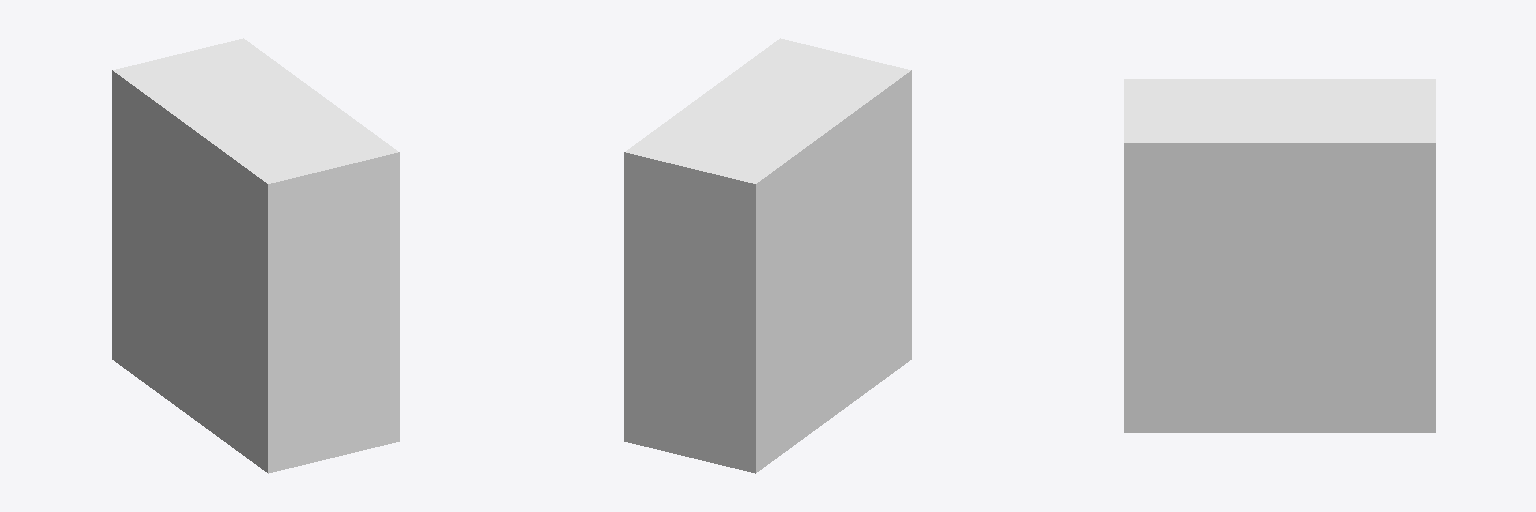
File: slicecube.obj
3 views of the same model, side by side, from view 1: azimuth 30°, elevation 25°; view 2: azimuth 150°, elevation 25°; view 3: azimuth 270°, elevation 25° (orthographic).
Parts seen in each view (by area): view 1: object 1; view 2: object 1; view 3: object 1.
Boxes of the visible parts, <box> form: object 1: <box>112,38,399,473</box>; object 1: <box>624,38,911,473</box>; object 1: <box>1124,79,1435,432</box>.
Bounding box in the file's own units: 1.9 × 4 × 3.9.